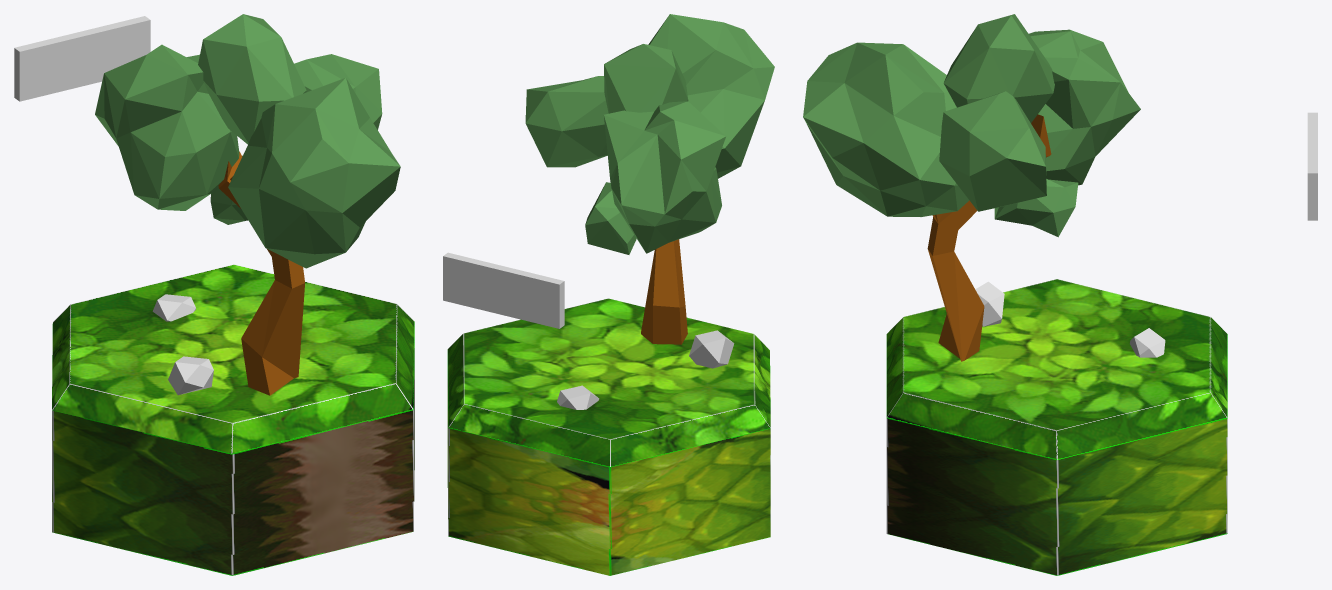
Rendered from 前进格子.FBX.
3 views of the same model, side by side, from view 1: azimuth 30°, elevation 25°; view 2: azimuth 150°, elevation 25°; view 3: azimuth 270°, elevation 25° (orthographic). The views are drawn at different scales.
Parts seen in each view (by area): view 1: Cylinder001, Group004, Box001, Line001, Hedra001, Hedra002; view 2: Cylinder001, Group004, Box001, Line001, Hedra001, Hedra002; view 3: Cylinder001, Group004, Line001, Box001, Hedra001, Hedra002.
Part boxes in pixels (x1,y1,x2,y2): Cylinder001: (52,264,414,575); Group004: (95,14,400,268); Box001: (14,16,150,101); Line001: (218,151,304,395); Hedra001: (168,356,213,395); Hedra002: (152,294,195,321); Cylinder001: (447,298,770,575); Group004: (525,14,774,254); Box001: (443,252,564,328); Line001: (641,239,687,344); Hedra001: (689,330,734,368); Hedra002: (557,385,599,409); Cylinder001: (886,279,1227,575); Group004: (803,14,1140,237); Line001: (927,114,1051,361); Box001: (1307,112,1317,220); Hedra001: (975,281,1004,326); Hedra002: (1129,328,1165,357).
Bounding box in the file's own units: 104 × 136 × 135.
